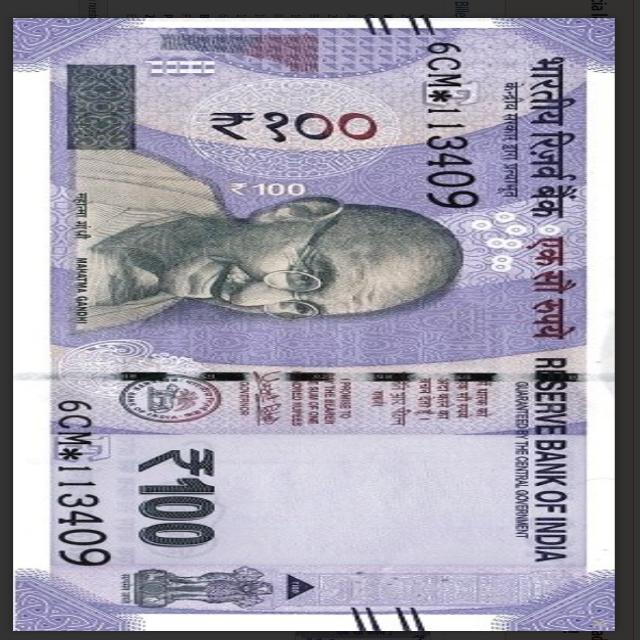100IndianRupees: (11, 17, 612, 631), (6, 15, 608, 434), (11, 362, 608, 632)
